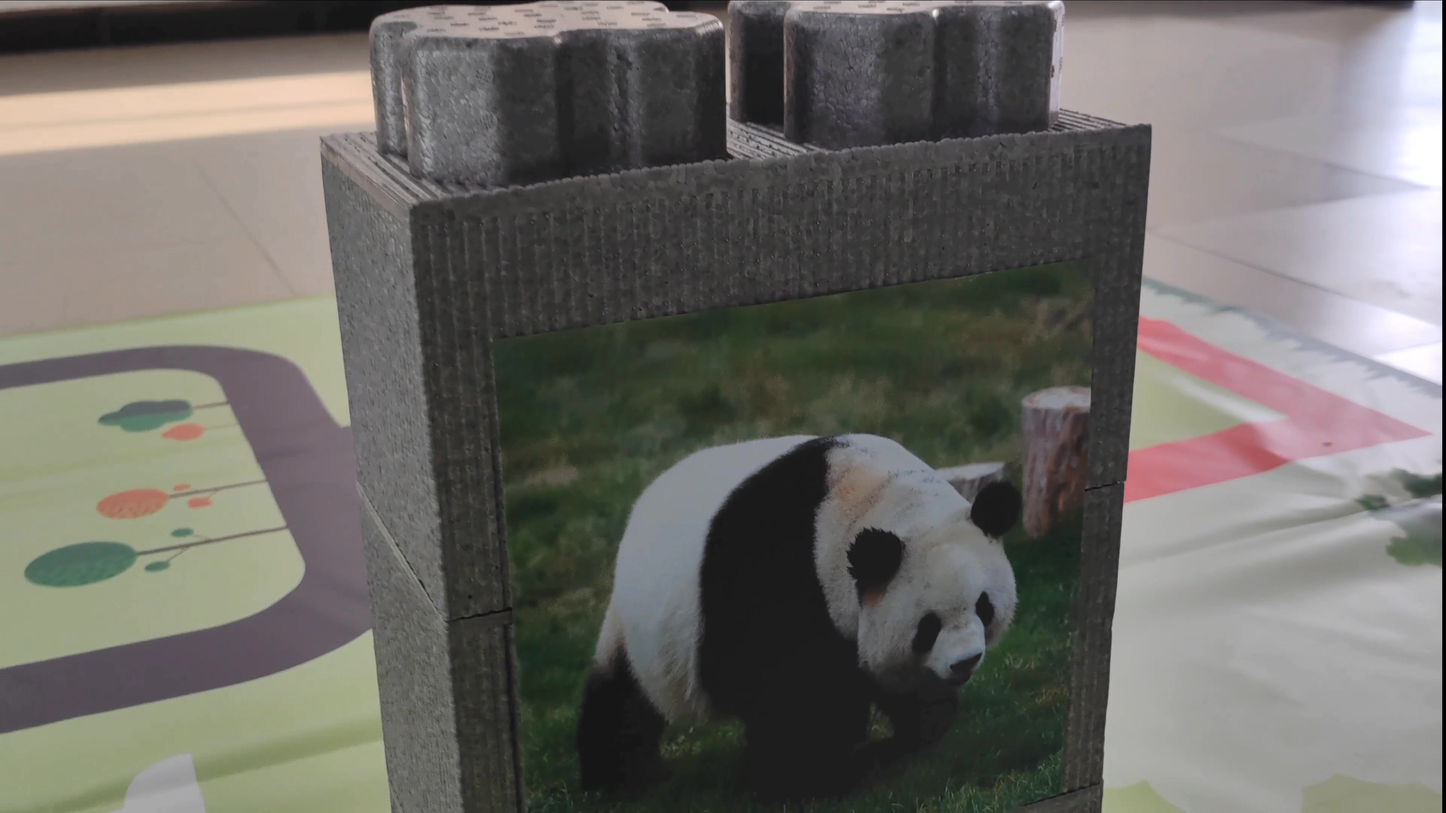panda: (516, 323, 1039, 800)
